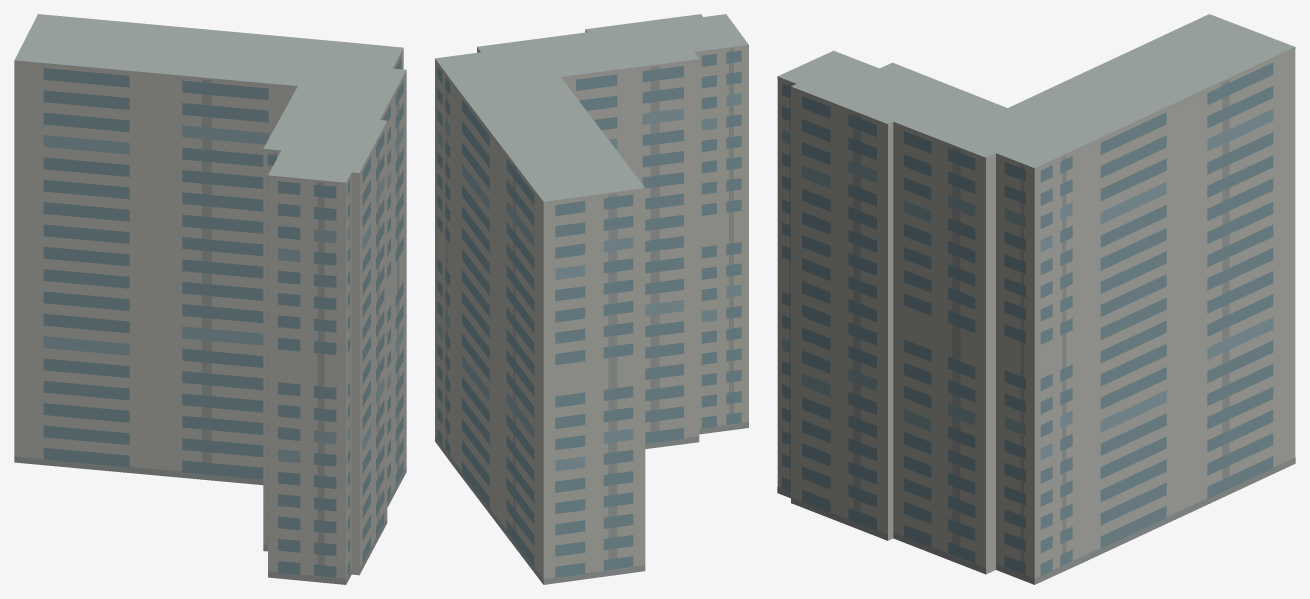
File: residential-85696e73-5651-46d2-a0a3-bb309af32265.glb
3 renders of one model, left to right at view 1: azimuth 30°, elevation 25°; view 2: azimuth 150°, elevation 25°; view 3: azimuth 270°, elevation 25°, orthographic. The views are drawn at different scales.
Visible parts, largest first — view 1: residential-85696e73-5651-46d2-a0a3-bb309af32265.tmp; view 2: residential-85696e73-5651-46d2-a0a3-bb309af32265.tmp; view 3: residential-85696e73-5651-46d2-a0a3-bb309af32265.tmp.
Boxes of the visible parts, x1=… form: residential-85696e73-5651-46d2-a0a3-bb309af32265.tmp: x1=14, y1=14, x2=406, y2=584; residential-85696e73-5651-46d2-a0a3-bb309af32265.tmp: x1=435, y1=14, x2=748, y2=584; residential-85696e73-5651-46d2-a0a3-bb309af32265.tmp: x1=777, y1=14, x2=1295, y2=584.
Size of the model in its own units: 41.28 by 52 by 58.59.
